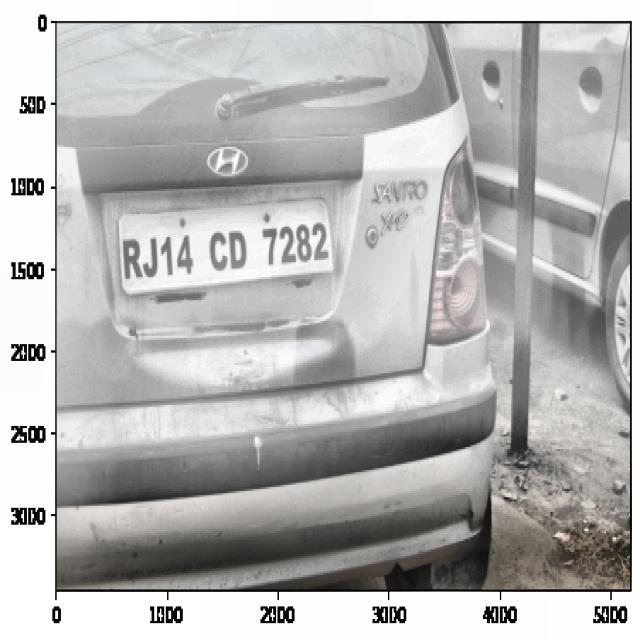license_plate: (120, 209, 331, 286)
